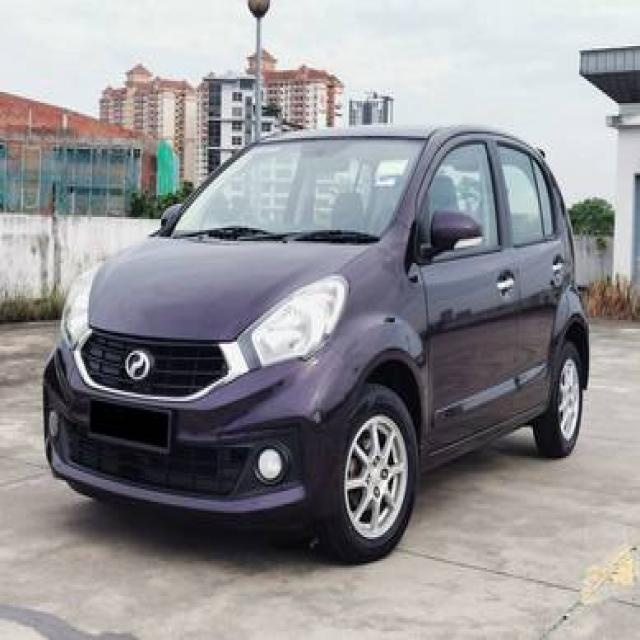PeroduaMyvi: (39, 119, 590, 566)
